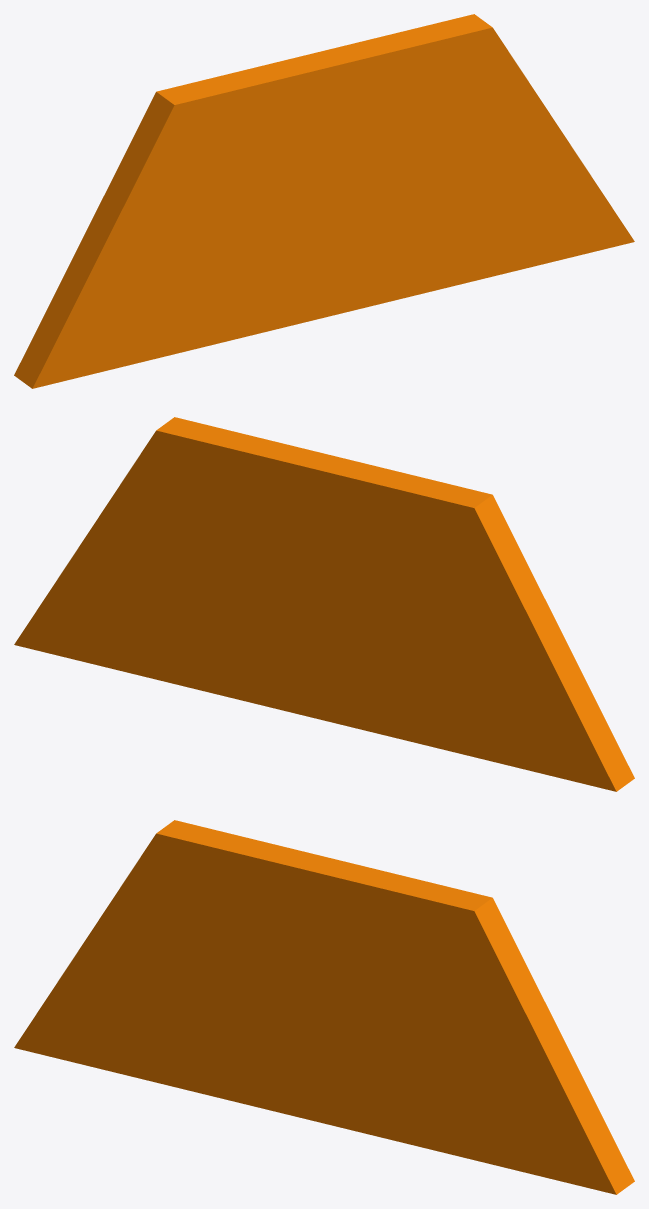
The model's file is Trapetsiya.fbx.
3 views of the same model, one above another, from view 1: azimuth 30°, elevation 25°; view 2: azimuth 150°, elevation 25°; view 3: azimuth 330°, elevation 25° (orthographic).
Parts seen in each view (by area): view 1: Curve.005; view 2: Curve.005; view 3: Curve.005.
Part boxes in pixels (x1,y1,x2,y2): Curve.005: (14, 14, 634, 388); Curve.005: (14, 417, 634, 791); Curve.005: (14, 820, 634, 1194).
Size of the model in its own units: 7.28 by 2.87 by 0.3854.
1 material, 1 textured.
